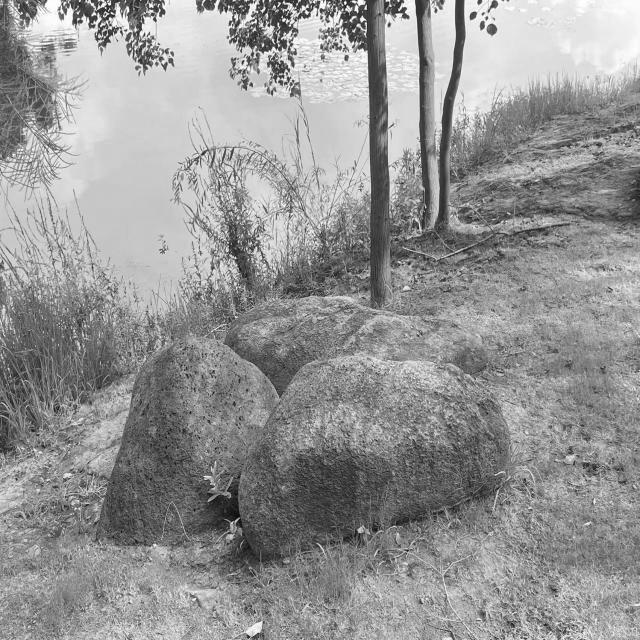Stone: (239, 356, 510, 554), (98, 338, 278, 544), (225, 296, 487, 393)
Tree: (368, 0, 391, 308), (436, 0, 466, 229), (416, 0, 438, 228)
